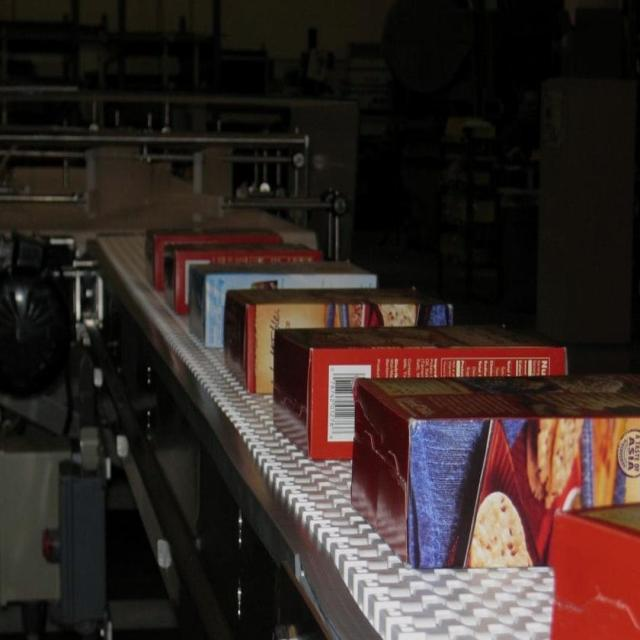food: (348, 372, 638, 570), (271, 321, 569, 463), (221, 284, 454, 396)
